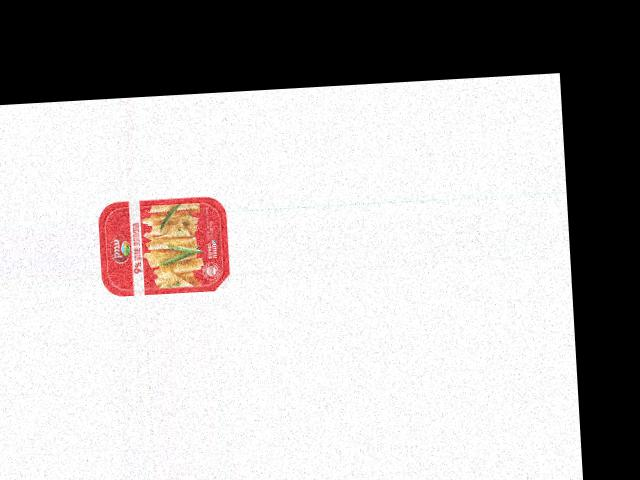cheese: (96, 194, 231, 297)
